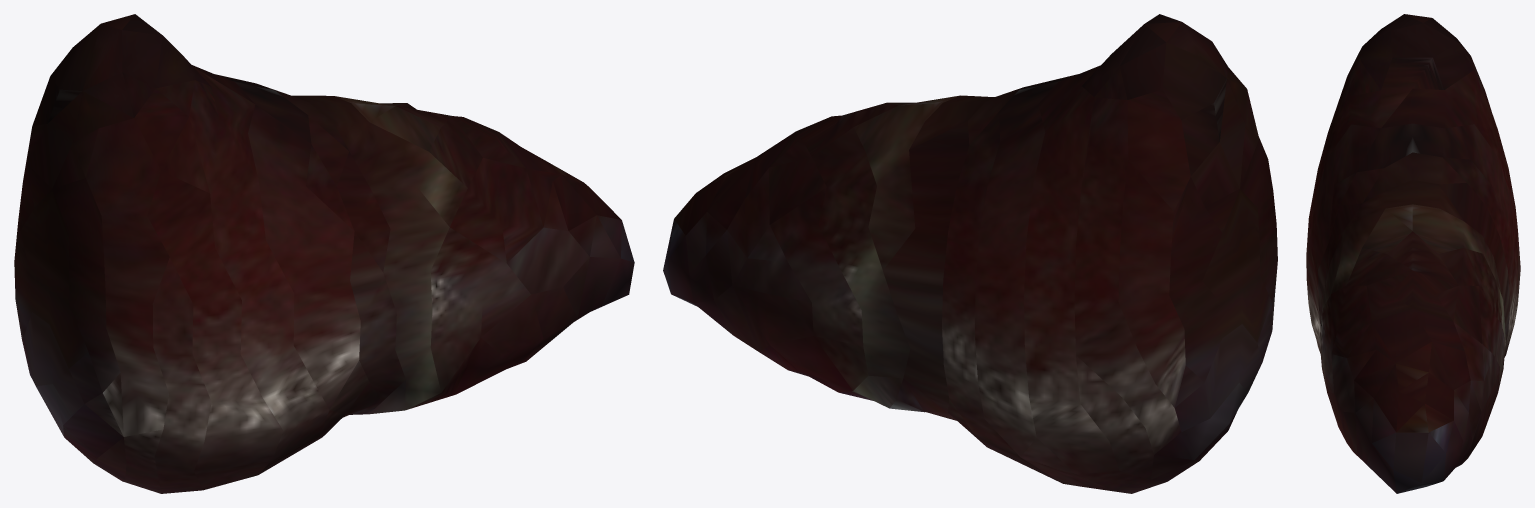
File: AuthenticLiver.fbx
The picture shows the model from 3 angles, left to right: view 1: azimuth 30°, elevation 25°; view 2: azimuth 150°, elevation 25°; view 3: azimuth 270°, elevation 25°; orthographic projection. The views are drawn at different scales.
Visible parts, largest first — view 1: Liver; view 2: Liver; view 3: Liver.
Part boxes in pixels (x1,y1,x2,y2): Liver: (14, 14, 634, 493); Liver: (663, 14, 1277, 493); Liver: (1306, 14, 1520, 493).
Size of the model in its own units: 0.1307 by 0.1021 by 0.0551.
